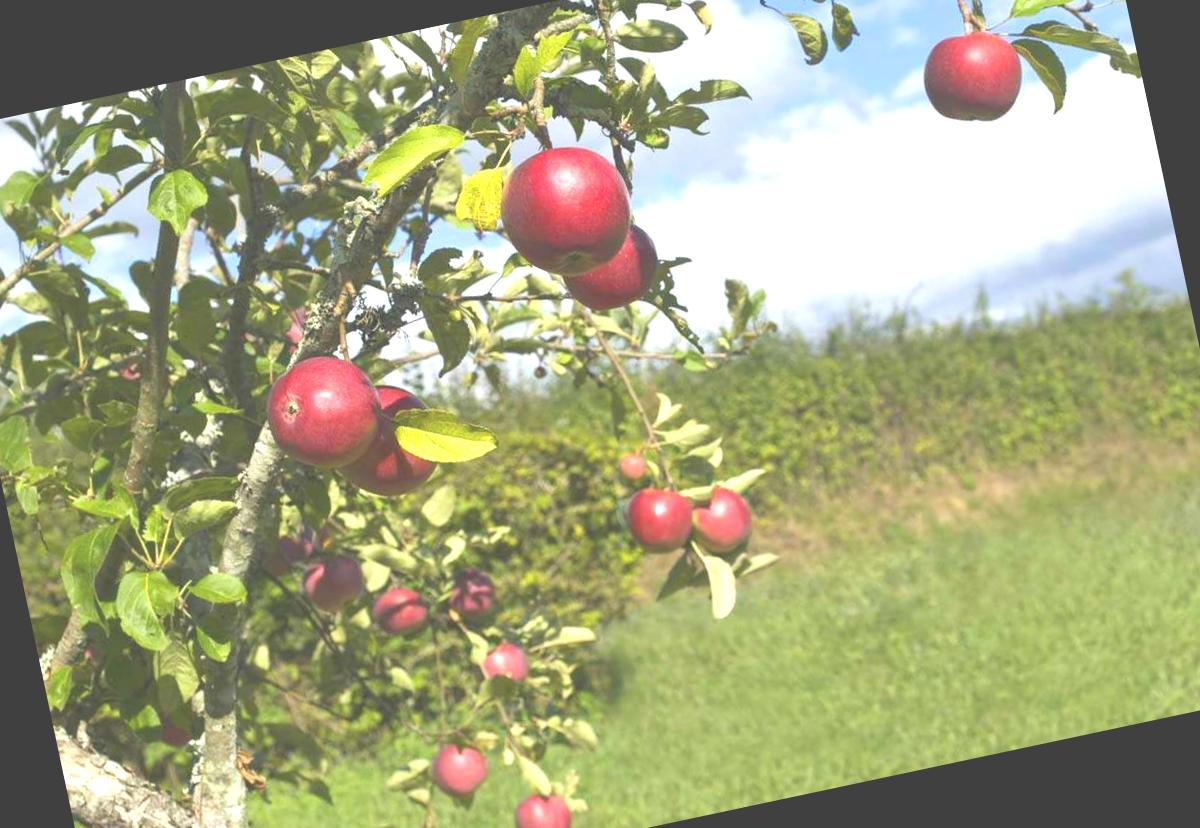Apple Ripe: (482, 116, 650, 288), (906, 6, 1054, 142)
